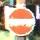No entry: (6, 6, 34, 34)
